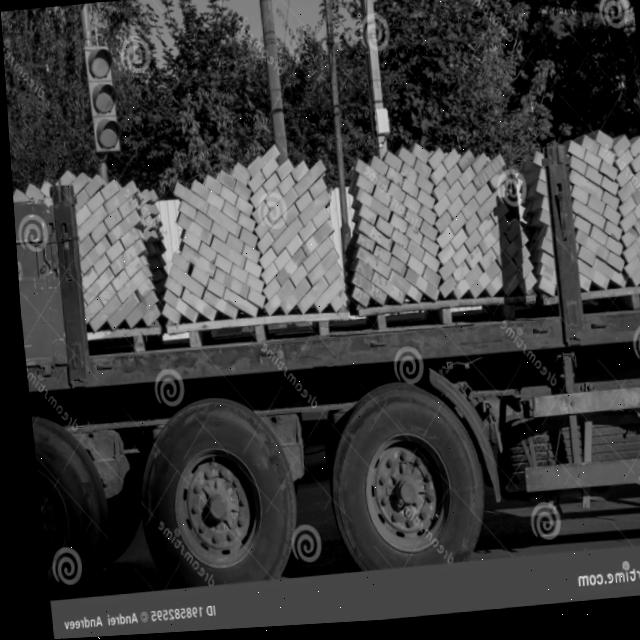bricks: (162, 145, 346, 326), (346, 144, 507, 314), (71, 172, 164, 332), (566, 131, 640, 287)
